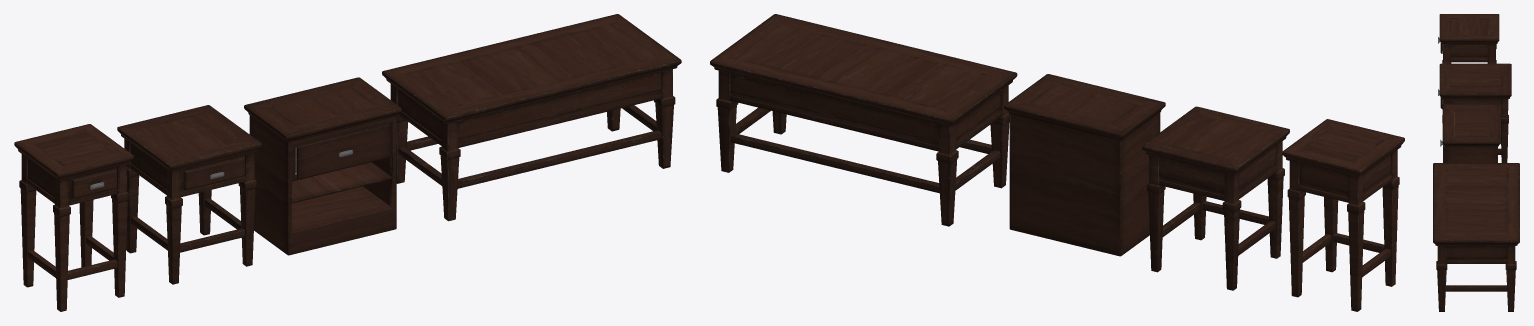
The model's file is wood_drawer__tables_set.glb.
3 views of the same model, side by side, from view 1: azimuth 30°, elevation 25°; view 2: azimuth 150°, elevation 25°; view 3: azimuth 270°, elevation 25° (orthographic). The views are drawn at different scales.
Visible parts, largest first — view 1: SM_WoodenTable_LOD0, SM_WoodenDrawer_3_LOD0, SM_WoodenDrawer_1_LOD0, SM_WoodenDrawer_2_LOD0; view 2: SM_WoodenTable_LOD0, SM_WoodenDrawer_3_LOD0, SM_WoodenDrawer_1_LOD0, SM_WoodenDrawer_2_LOD0; view 3: SM_WoodenTable_LOD0, SM_WoodenDrawer_1_LOD0, SM_WoodenDrawer_3_LOD0, SM_WoodenDrawer_2_LOD0.
Part boxes in pixels (left/top/right/bottom): SM_WoodenTable_LOD0: left=382, top=14, right=681, bottom=221; SM_WoodenDrawer_3_LOD0: left=244, top=77, right=401, bottom=255; SM_WoodenDrawer_1_LOD0: left=117, top=105, right=261, bottom=284; SM_WoodenDrawer_2_LOD0: left=14, top=124, right=133, bottom=311; SM_WoodenTable_LOD0: left=710, top=14, right=1017, bottom=226; SM_WoodenDrawer_3_LOD0: left=1004, top=74, right=1165, bottom=256; SM_WoodenDrawer_1_LOD0: left=1142, top=106, right=1289, bottom=290; SM_WoodenDrawer_2_LOD0: left=1282, top=119, right=1404, bottom=311; SM_WoodenTable_LOD0: left=1433, top=163, right=1519, bottom=311; SM_WoodenDrawer_1_LOD0: left=1438, top=63, right=1511, bottom=162; SM_WoodenDrawer_3_LOD0: left=1440, top=104, right=1500, bottom=162; SM_WoodenDrawer_2_LOD0: left=1438, top=14, right=1499, bottom=63.
Bounding box in the file's own units: 3.93 × 0.8586 × 0.7027.
Materials: 4 (4 with a texture image).
